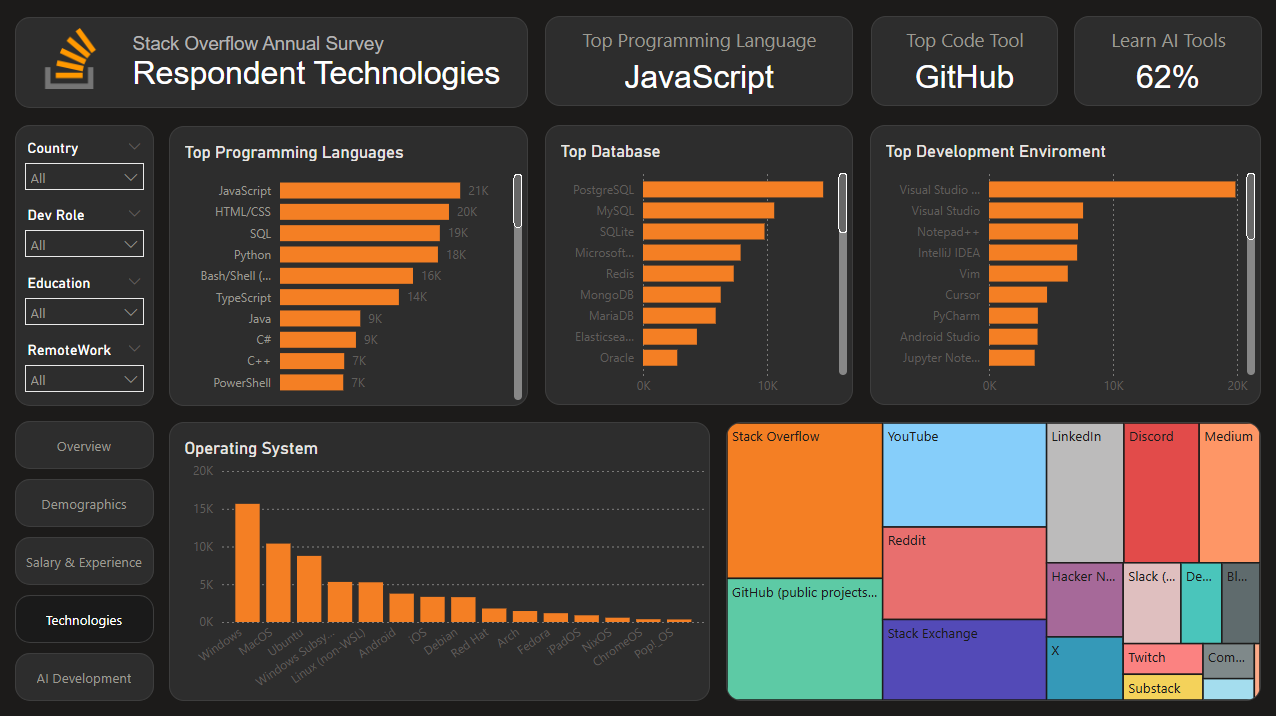

Layout of this report page (visuals, bound fields, positions):
{"tool":"powerbi","page":{"name":"Technologies","canvas":[1280,720],"ordinal":3},"visuals":[{"type":"barChart","title":"Top Database","fields":{"Category":["DB.DatabaseHaveWorkedWith"],"Y":["CountNonNull(DB.ResponseId)"]},"box":[546.8,126.3,308.4,280],"z":0},{"type":"barChart","title":"Top Programming Languages","fields":{"Category":["Languages.LanguageHaveWorkedWith"],"Y":["CountNonNull(Languages.ResponseId)"]},"box":[171.1,126.7,358.9,280],"z":1000},{"type":"clusteredColumnChart","title":"Operating System","fields":{"Category":["OS.OpSysProfessional use"],"Y":["CountNonNull(OS.ResponseId)"]},"box":[171.1,423.3,541.1,278.9],"z":2000},{"type":"barChart","title":"Top Development Enviroment","fields":{"Category":["DevEnvs.DevEnvsHaveWorkedWith"],"Y":["CountNonNull(DevEnvs.ResponseId)"]},"box":[871.8,126.4,390.9,280],"z":3000},{"type":"treemap","title":"Industry","fields":{"Group":["Platform.CommPlatformHaveWorkedWith"],"Values":["CountNonNull(Platform.ResponseId)"]},"box":[727.8,423.3,535.6,278.9],"z":4000},{"type":"card","title":"Top Code Tool","fields":{"Values":["CodeTool.Top Tool"]},"box":[872.9,17.1,186.7,90],"z":5000},{"type":"card","title":"Learn AI Tools","fields":{"Values":["Survey.AI Learning %"]},"box":[1076.4,17.3,187.3,90],"z":6000},{"type":"card","title":"Top Programming Language","fields":{"Values":["Languages.Top Language"]},"box":[546.8,17.4,308.4,90],"z":7000},{"type":"shape","box":[17,18,513,91],"z":8000},{"type":"pageNavigator","box":[16.7,422.2,138.9,281.1],"z":12000},{"type":"shape","box":[17,126,139,281],"z":13000},{"type":"slicer","title":"Age Distribution","fields":{"Values":["Survey.Country"]},"box":[17.3,141.5,138.4,50],"z":14000},{"type":"slicer","title":"Age Distribution","fields":{"Values":["Survey.DevType"]},"box":[17.3,208.3,138.4,50.5],"z":15000},{"type":"slicer","title":"Age Distribution","fields":{"Values":["Survey.Education_level"]},"box":[17.3,275.7,138.4,50],"z":16000},{"type":"slicer","title":"Age Distribution","fields":{"Values":["Survey.RemoteWork_Clean"]},"box":[17.3,342.5,138.4,50],"z":17000},{"type":"textbox","box":[130,29,388,73],"z":18000},{"type":"image","box":[38.1,28.9,70.1,60.8],"z":19000}]}

Visuals, with their boxes in screenshot pixels (x1, y1, x2, y2), scaled from the page's 1280x720 canvas onto the 1276x716 screenshot:
"Top Database" barChart: <bbox>545, 126, 853, 404</bbox>
"Top Programming Languages" barChart: <bbox>171, 126, 528, 404</bbox>
"Operating System" clusteredColumnChart: <bbox>171, 421, 710, 698</bbox>
"Top Development Enviroment" barChart: <bbox>869, 126, 1259, 404</bbox>
"Industry" treemap: <bbox>726, 421, 1259, 698</bbox>
"Top Code Tool" card: <bbox>870, 17, 1056, 107</bbox>
"Learn AI Tools" card: <bbox>1073, 17, 1260, 107</bbox>
"Top Programming Language" card: <bbox>545, 17, 853, 107</bbox>
shape: <bbox>17, 18, 528, 108</bbox>
pageNavigator: <bbox>17, 420, 155, 699</bbox>
shape: <bbox>17, 125, 156, 405</bbox>
"Age Distribution" slicer: <bbox>17, 141, 155, 190</bbox>
"Age Distribution" slicer: <bbox>17, 207, 155, 257</bbox>
"Age Distribution" slicer: <bbox>17, 274, 155, 324</bbox>
"Age Distribution" slicer: <bbox>17, 341, 155, 390</bbox>
textbox: <bbox>130, 29, 516, 101</bbox>
image: <bbox>38, 29, 108, 89</bbox>
